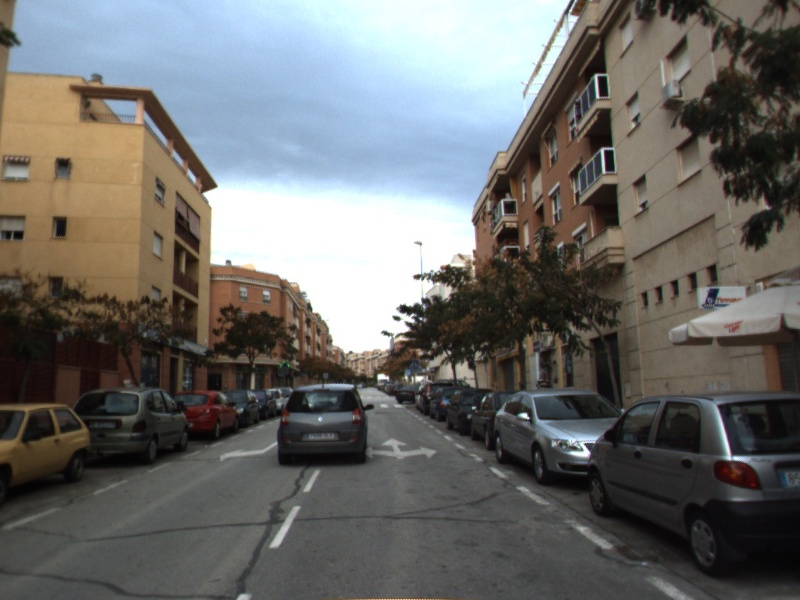STRAIGHT_LEFT_RIGHT: (365, 436, 440, 461)
